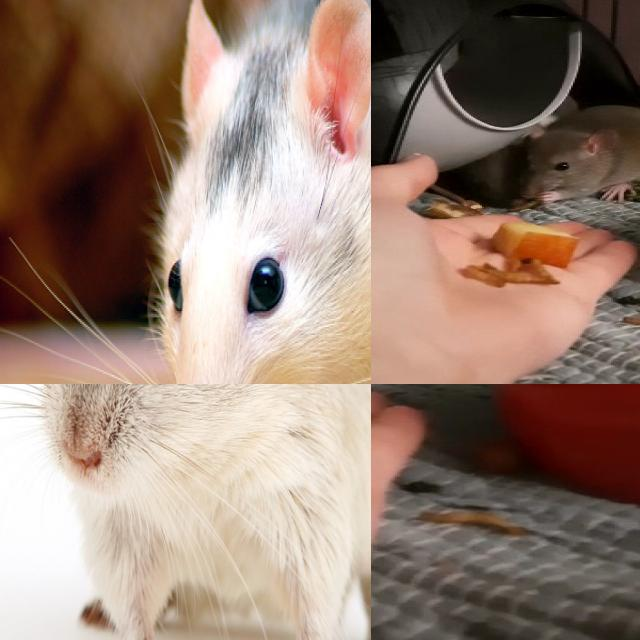rat: (11, 384, 371, 640), (163, 0, 371, 384), (505, 103, 640, 202)
